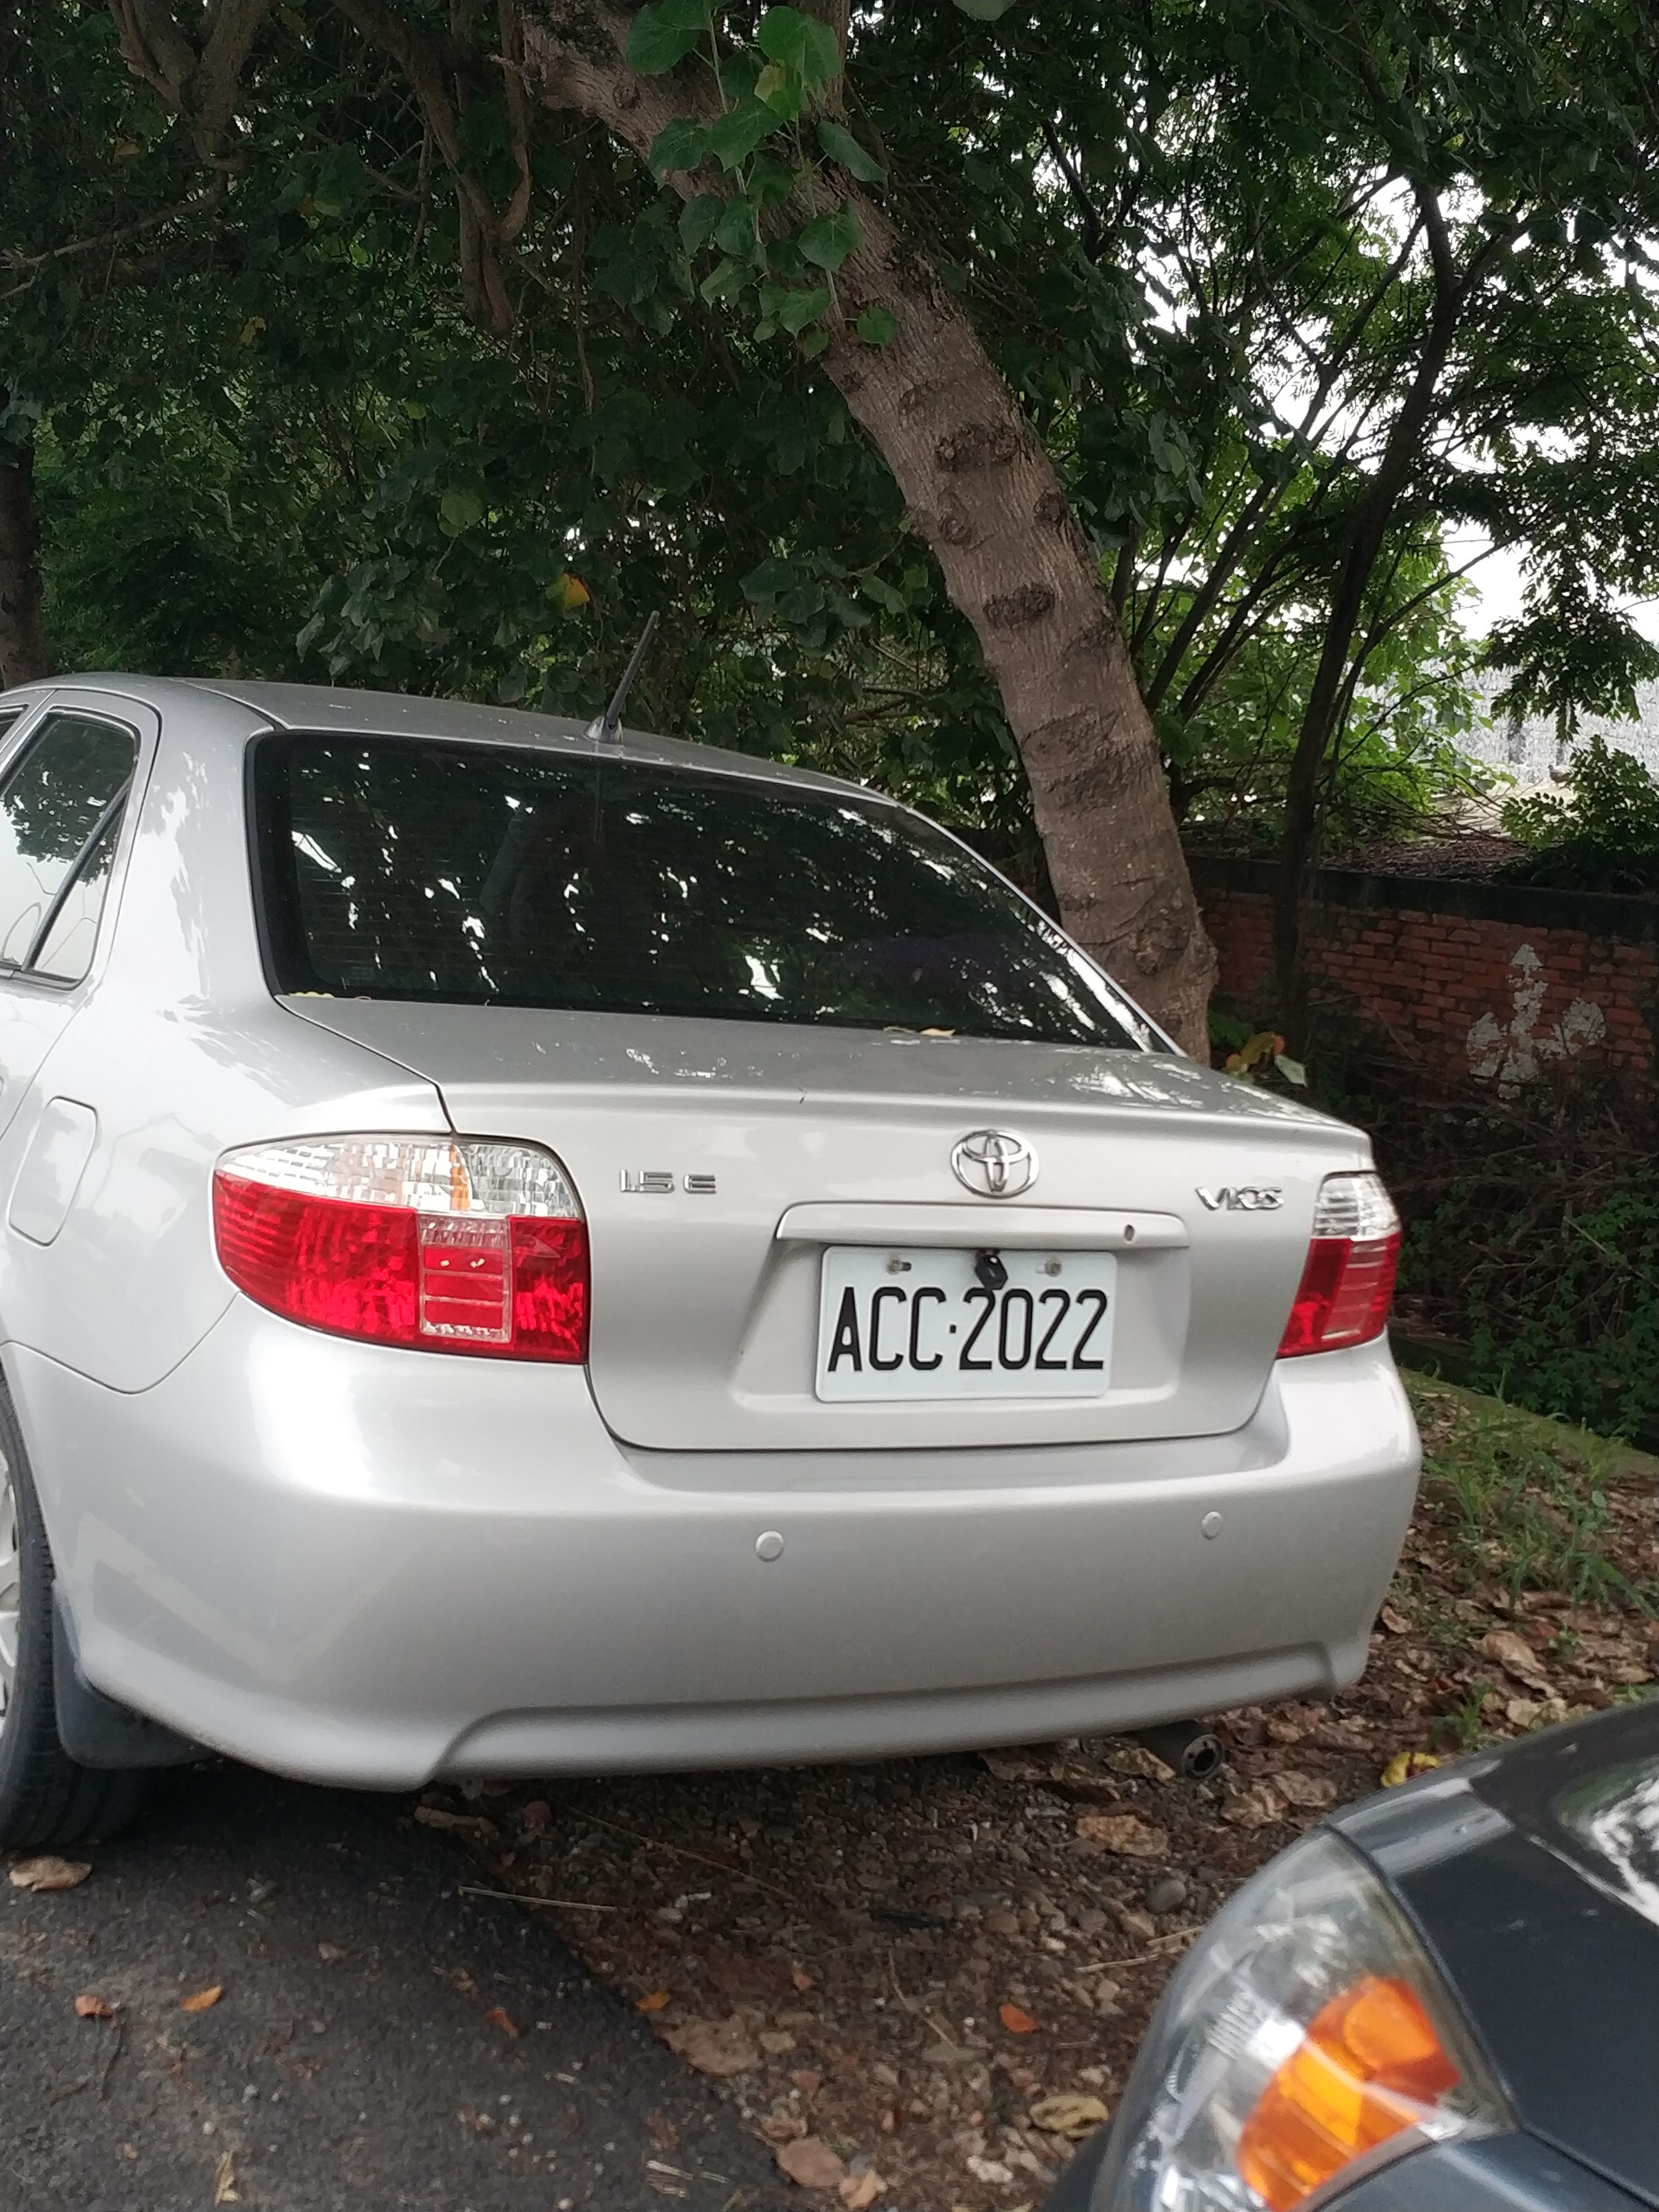car: (0, 664, 1432, 1791)
car_card: (821, 1251, 1138, 1390)
